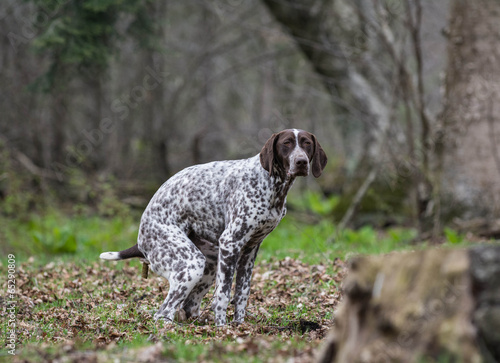dog_pooping: (97, 127, 332, 329)
